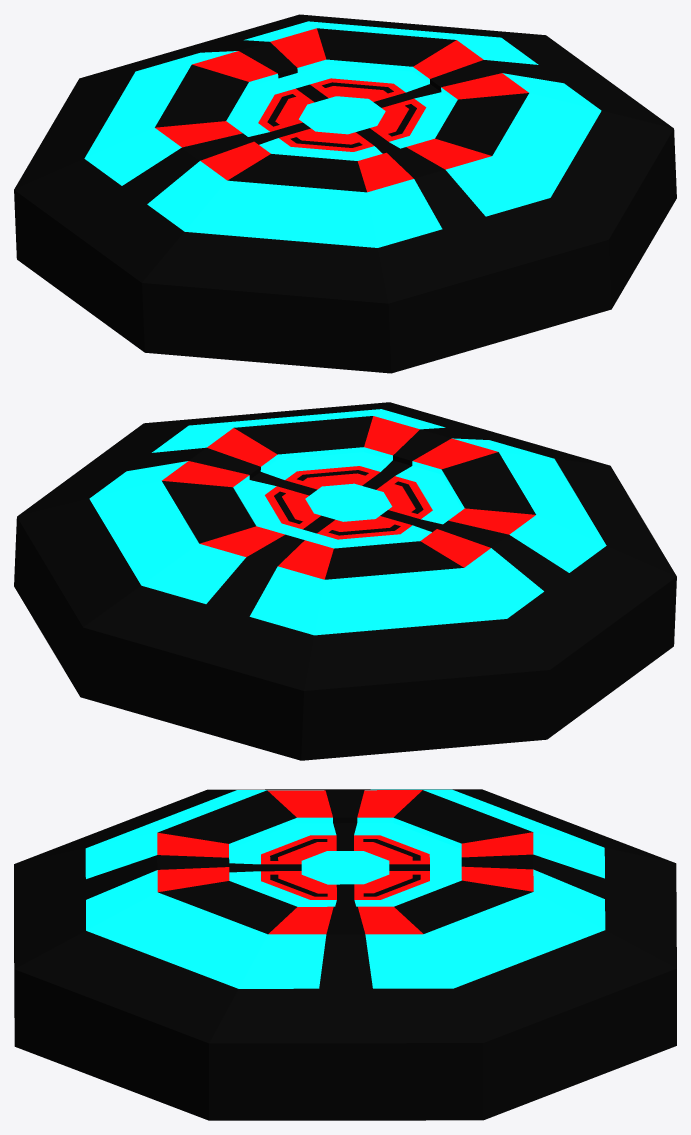
The model's file is GrapplePoint.fbx.
3 views of the same model, one above another, from view 1: azimuth 30°, elevation 25°; view 2: azimuth 150°, elevation 25°; view 3: azimuth 270°, elevation 25° (orthographic). The views are drawn at different scales.
Visible parts, largest first — view 1: Cylinder; view 2: Cylinder; view 3: Cylinder.
Boxes of the visible parts, box(x1,y1,x2,y2) form: Cylinder: box(14, 14, 676, 373); Cylinder: box(14, 402, 676, 760); Cylinder: box(14, 789, 676, 1120).
Size of the model in its own units: 186 by 45.91 by 185.
